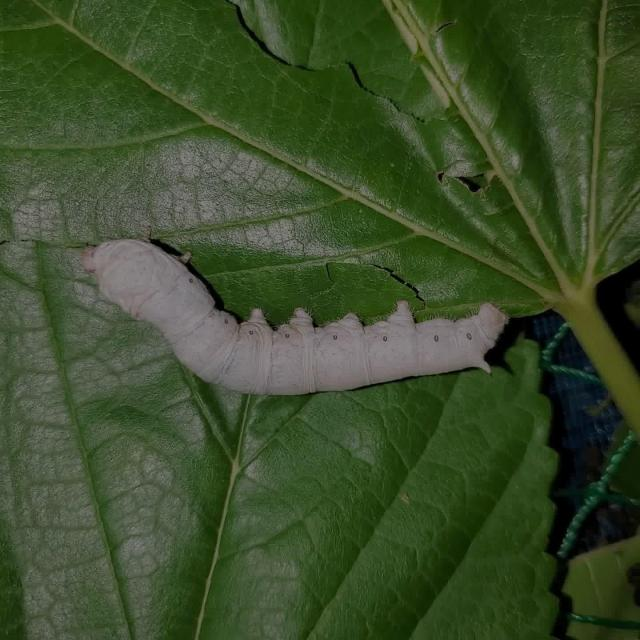Healthy: (55, 199, 551, 424)
